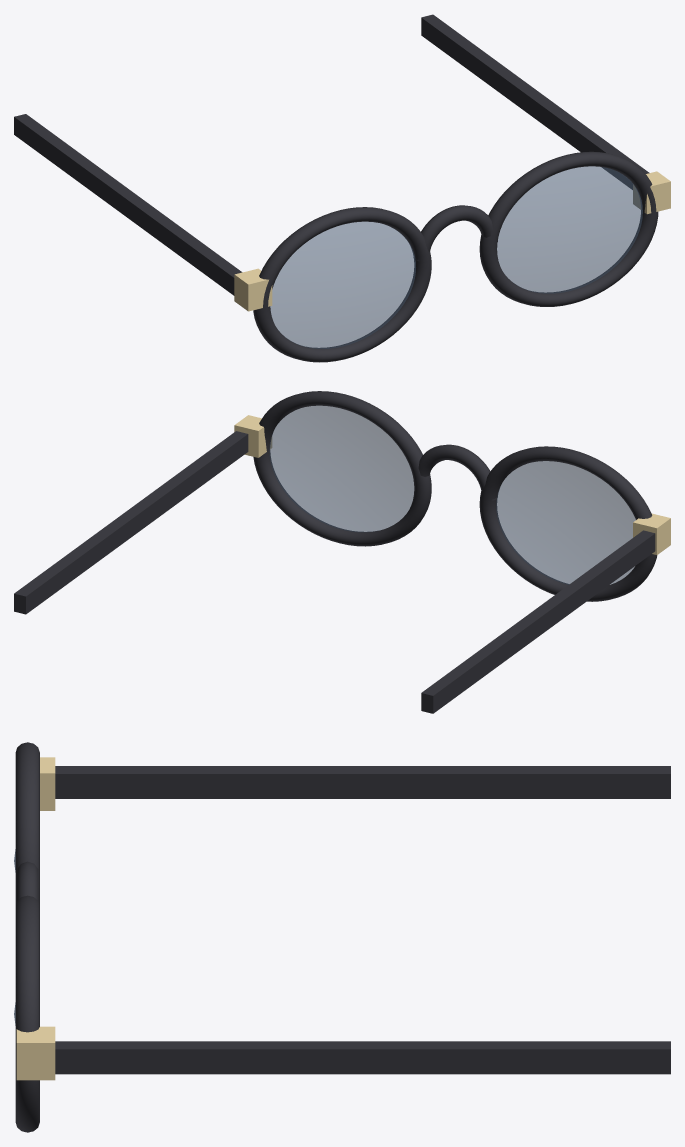
The model's file is glasses-3d.glb.
3 renders of one model, top to bottom at view 1: azimuth 30°, elevation 25°; view 2: azimuth 150°, elevation 25°; view 3: azimuth 270°, elevation 25°, orthographic. The views are drawn at different scales.
Parts seen in each view (by area): view 1: Frame, Lenses, Hinges; view 2: Frame, Lenses, Hinges; view 3: Frame, Hinges.
Boxes of the visible parts, x1,y1,x2,y2 form: Frame: (14,14,658,362); Lenses: (270,166,642,348); Hinges: (234,171,670,311); Frame: (14,391,657,713); Lenses: (269,405,635,584); Hinges: (234,415,670,554); Frame: (15,742,670,1132); Hinges: (16,757,55,1080).
Bounding box in the file's own units: 1.23 × 0.4112 × 1.19.
